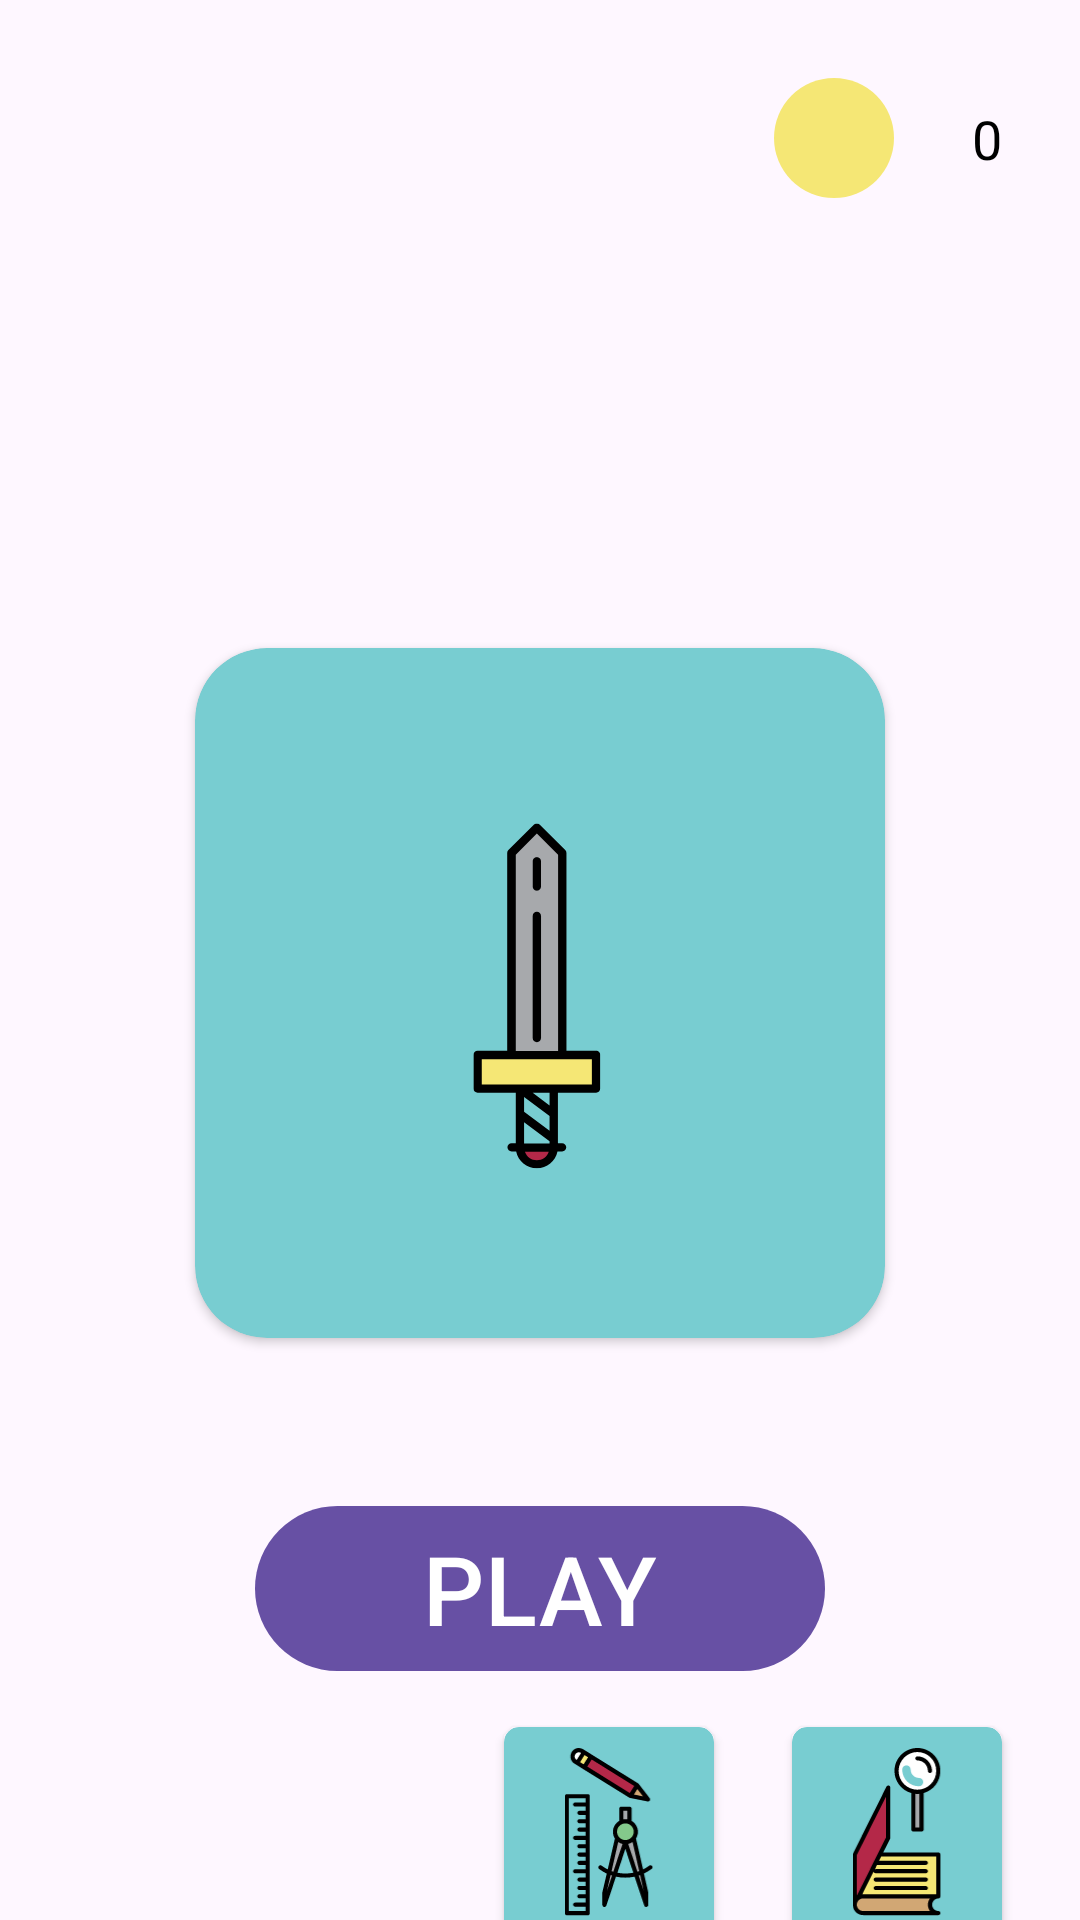

Where icons sit on this 1080×1920 app screen, as [x1, y1, x2, y2]:
private policy: [853, 1748, 941, 1916]
